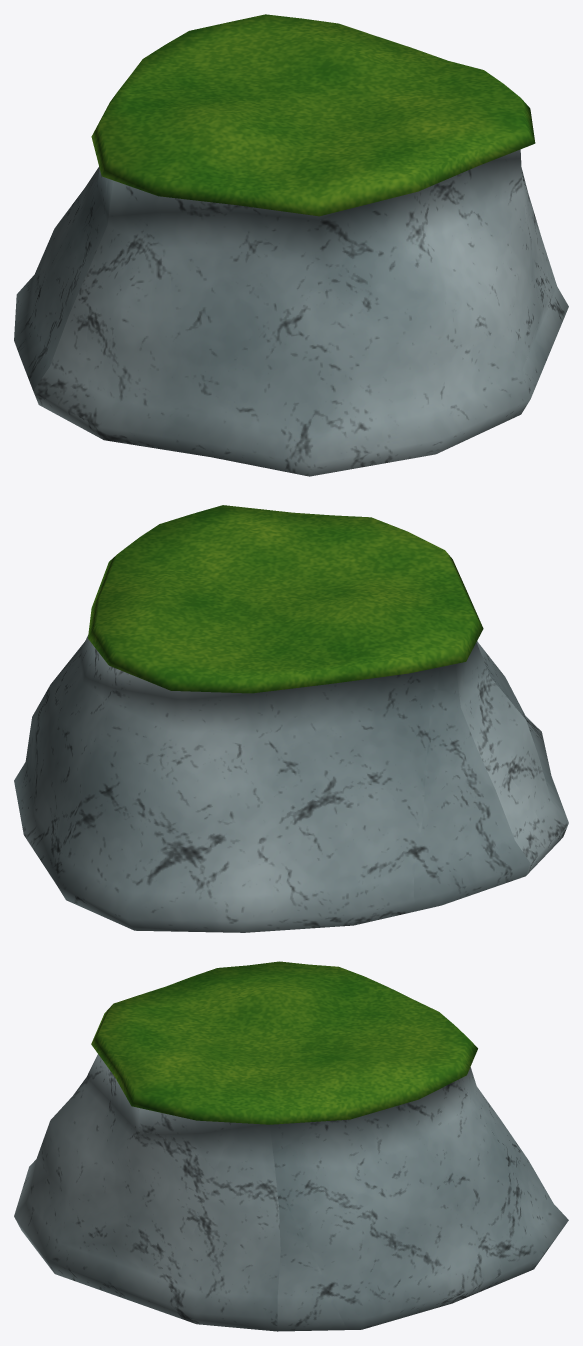
File: hill-1.fbx
The picture shows the model from 3 angles, top to bottom: view 1: azimuth 30°, elevation 25°; view 2: azimuth 150°, elevation 25°; view 3: azimuth 270°, elevation 25°; orthographic projection. The views are drawn at different scales.
Parts seen in each view (by area): view 1: hill.015; view 2: hill.015; view 3: hill.015.
Part boxes in pixels (<box>): hill.015: <box>14,14,568,476</box>; hill.015: <box>14,505,568,932</box>; hill.015: <box>14,961,568,1331</box>.
Size of the model in its own units: 1701 by 793 by 1888.
